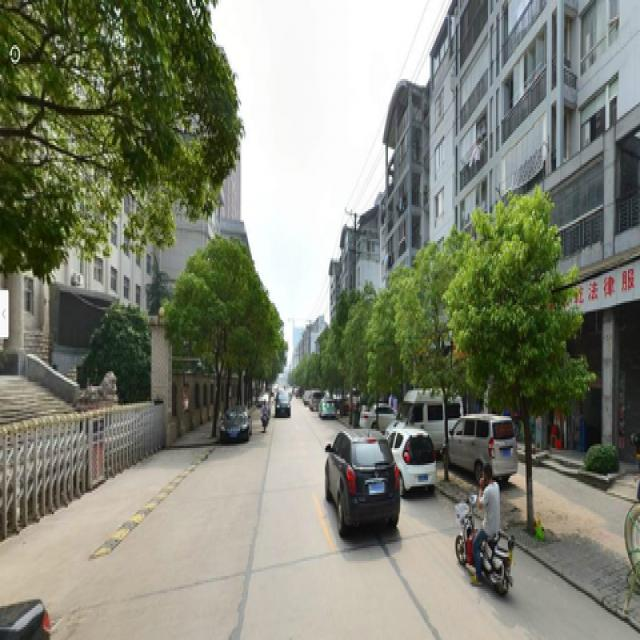cinn: (468, 211, 579, 527)
